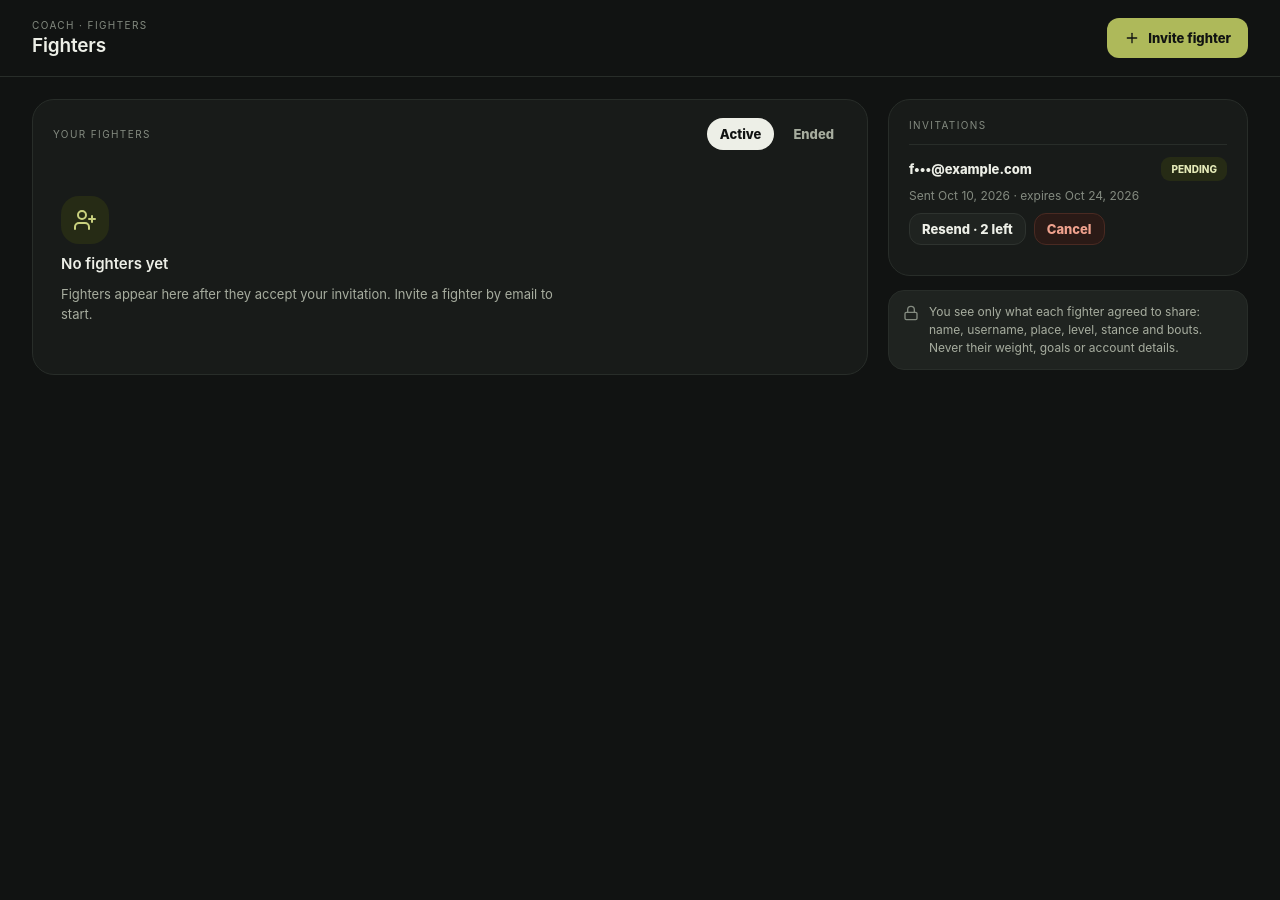
Test case: CoachFighters (WC7) invite composer › is neutral with a stale cache already holding the returned id, a new invitation (201)
This screenshot has width=1280, height=900.
Click the button "Invite fighter" at (1178, 38), box [1107,18,1248,58]
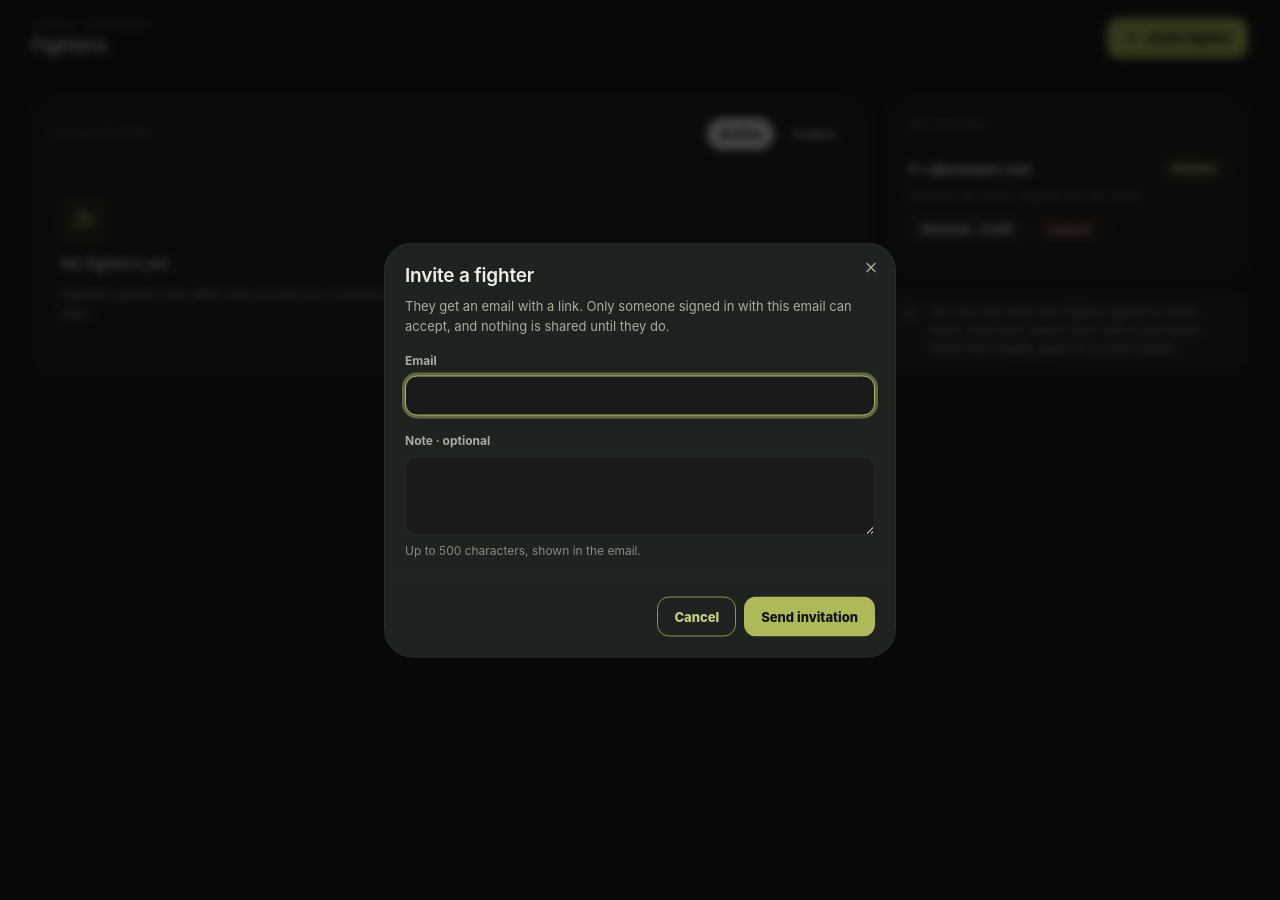
Type "fighter@example.com" into the field labelled "Email" at (640, 396), box [405,376,875,416]
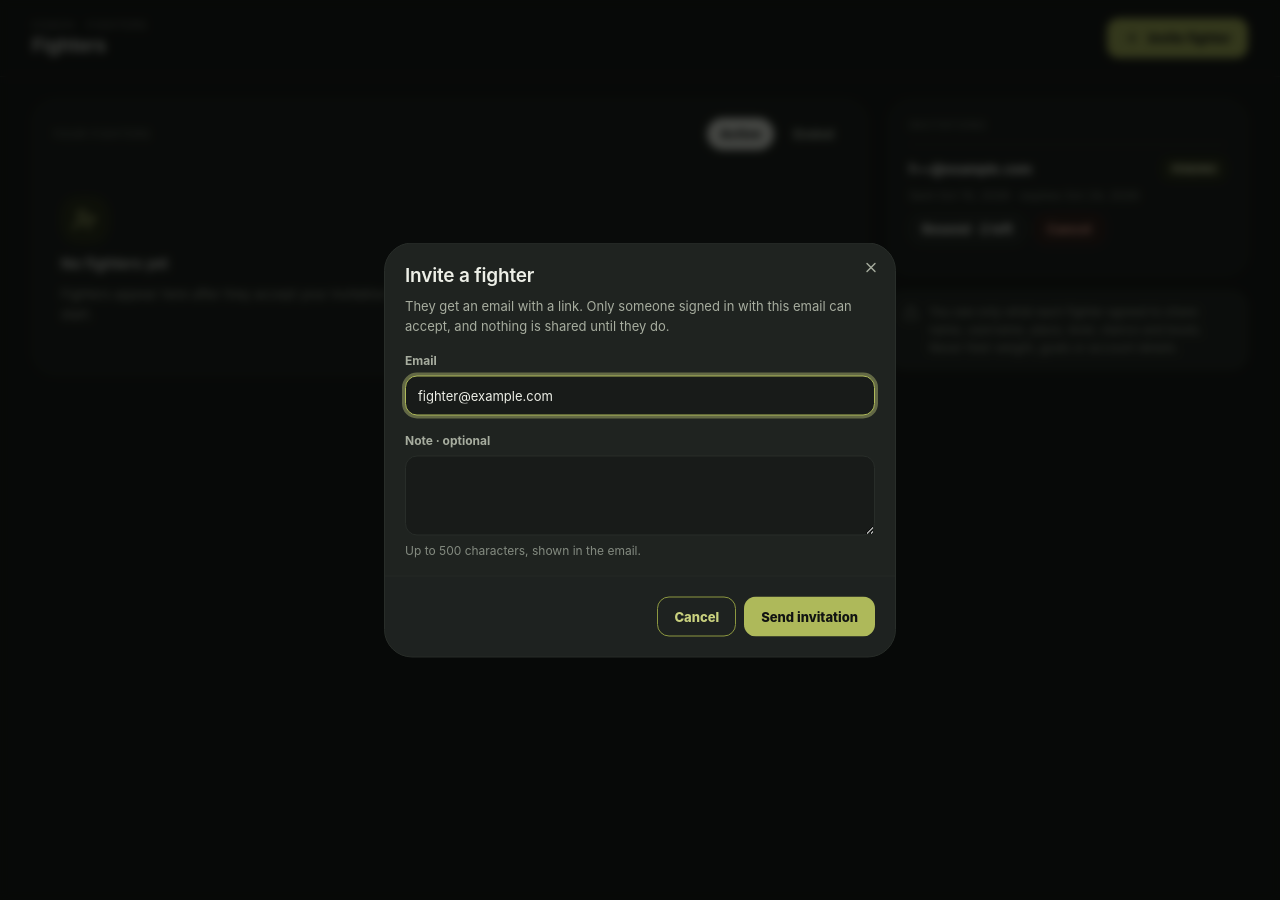
Click the button "Send invitation" at (810, 616), box [744,596,875,636]
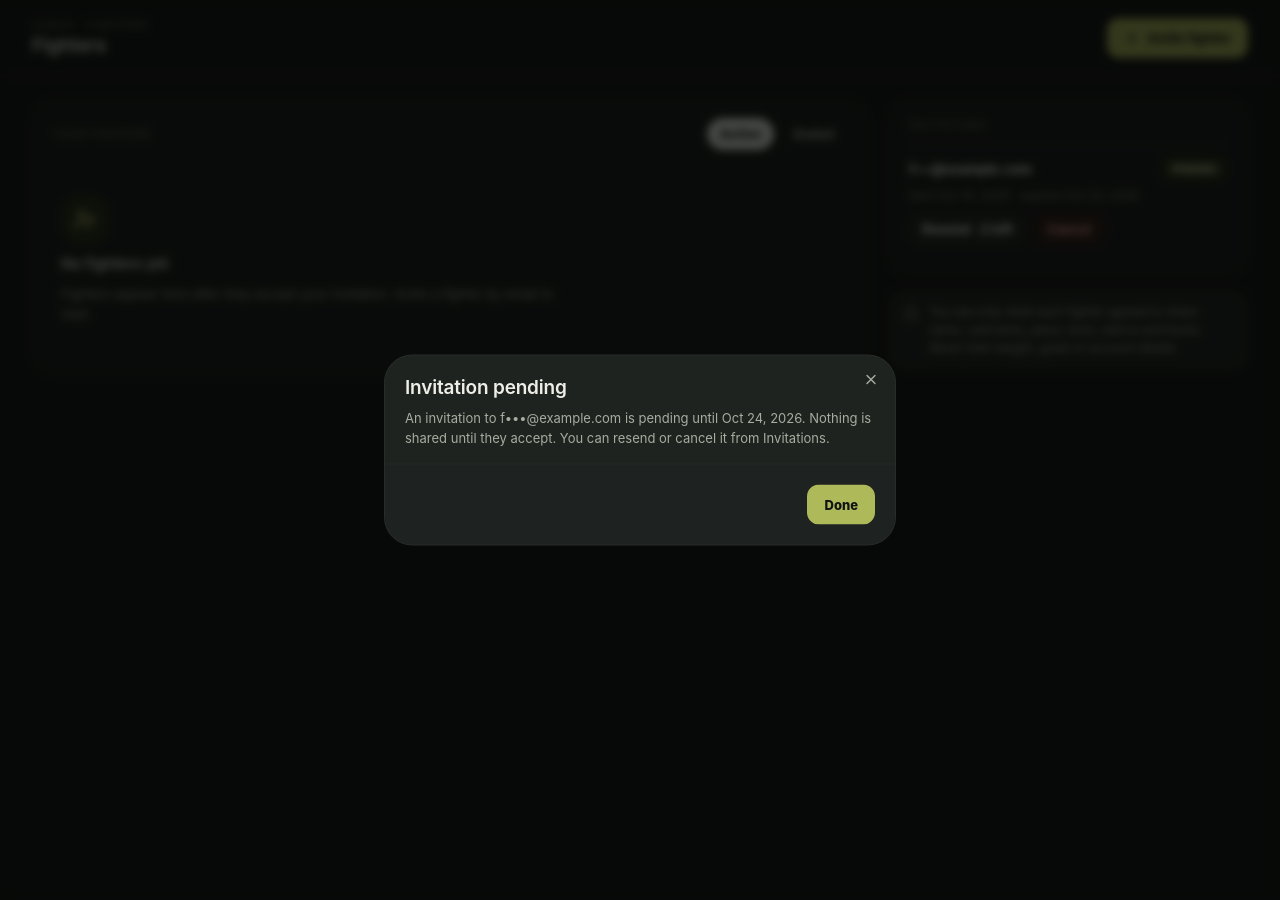
Expected: the heading "Invitation pending" is shown, [405,376,567,398]
